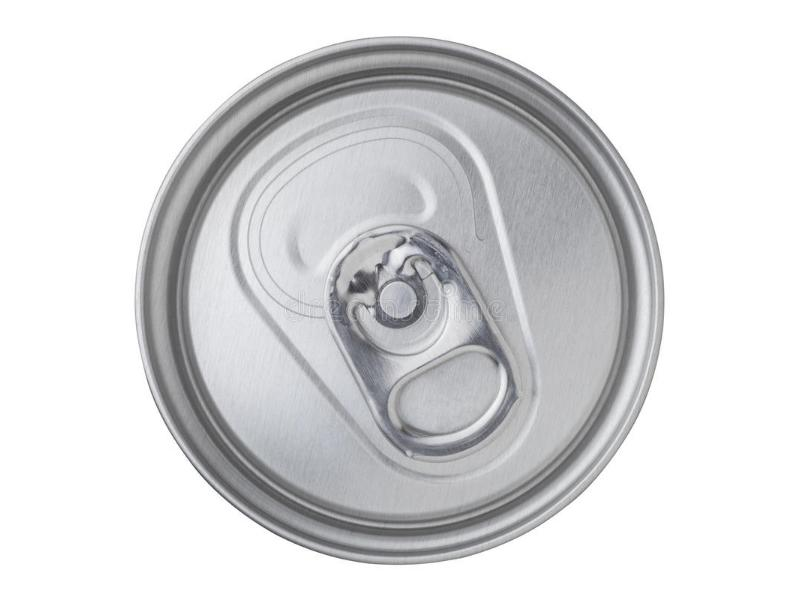can: (128, 27, 679, 573)
